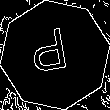P_S: (33, 27, 77, 83)
